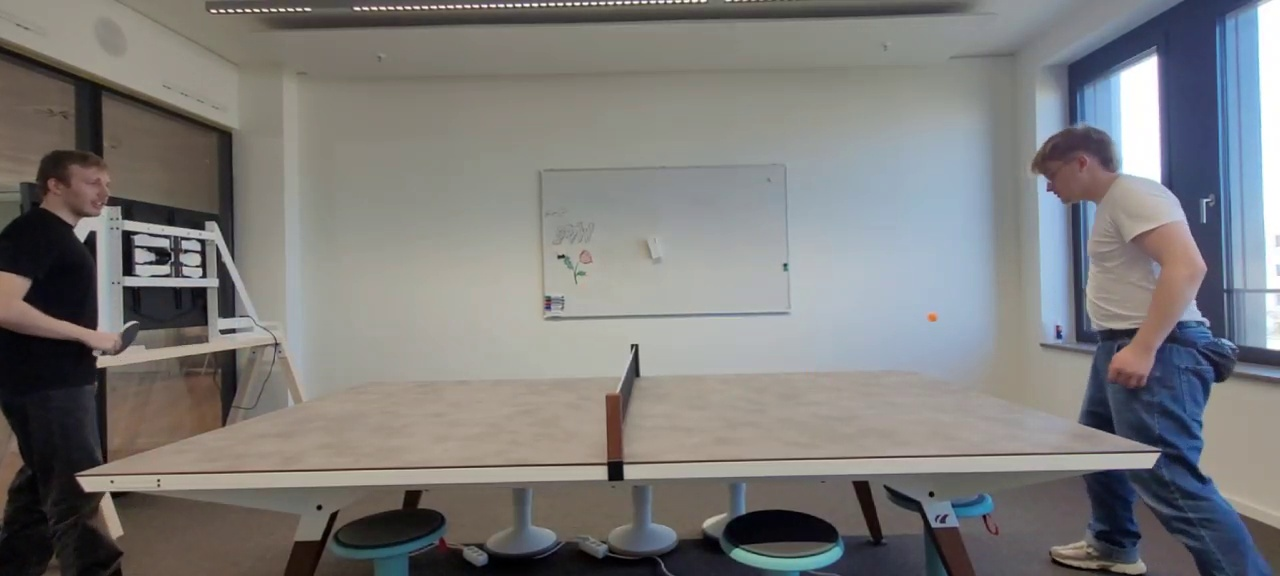plate: (75, 368, 1161, 475)
racket: (111, 321, 139, 356)
ttball: (927, 312, 937, 321)
